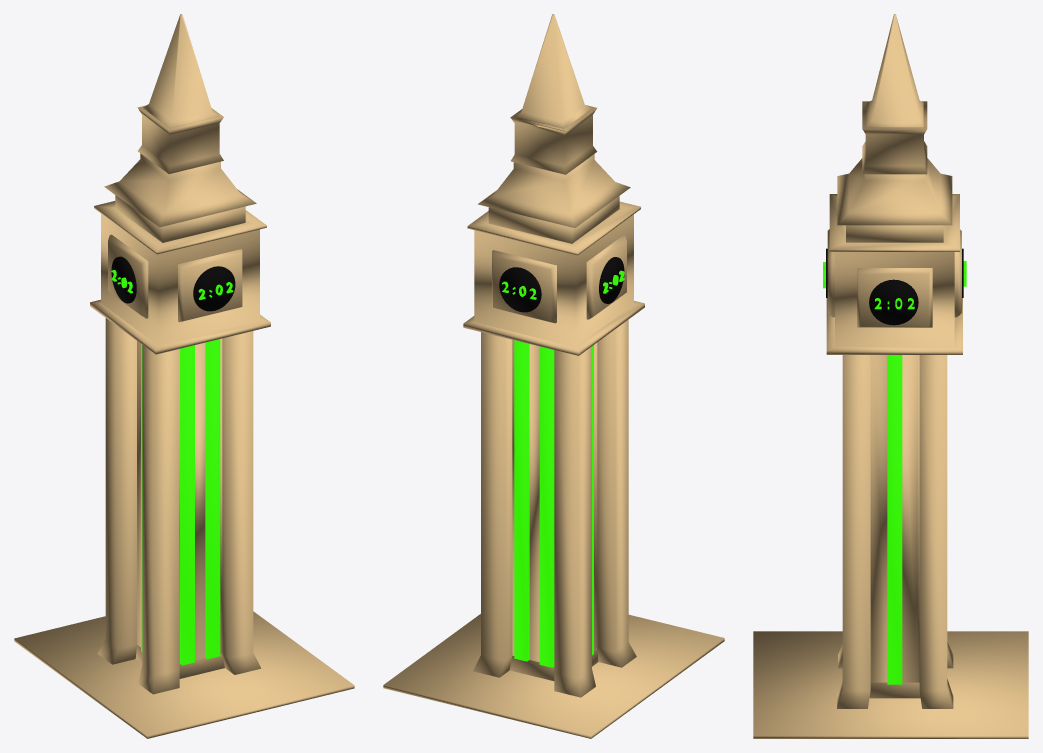
File: bigBen.glb
3 renders of one model, left to right at view 1: azimuth 30°, elevation 25°; view 2: azimuth 150°, elevation 25°; view 3: azimuth 270°, elevation 25°, orthographic. The views are drawn at different scales.
Parts seen in each view (by area): view 1: Big Ben Building; view 2: Big Ben Building; view 3: Big Ben Building.
Boxes of the visible parts, left/top/right/bottom form: Big Ben Building: left=14, top=14, right=354, bottom=738; Big Ben Building: left=383, top=14, right=724, bottom=738; Big Ben Building: left=753, top=14, right=1028, bottom=738.
Size of the model in its own units: 36.99 by 111 by 41.18.
